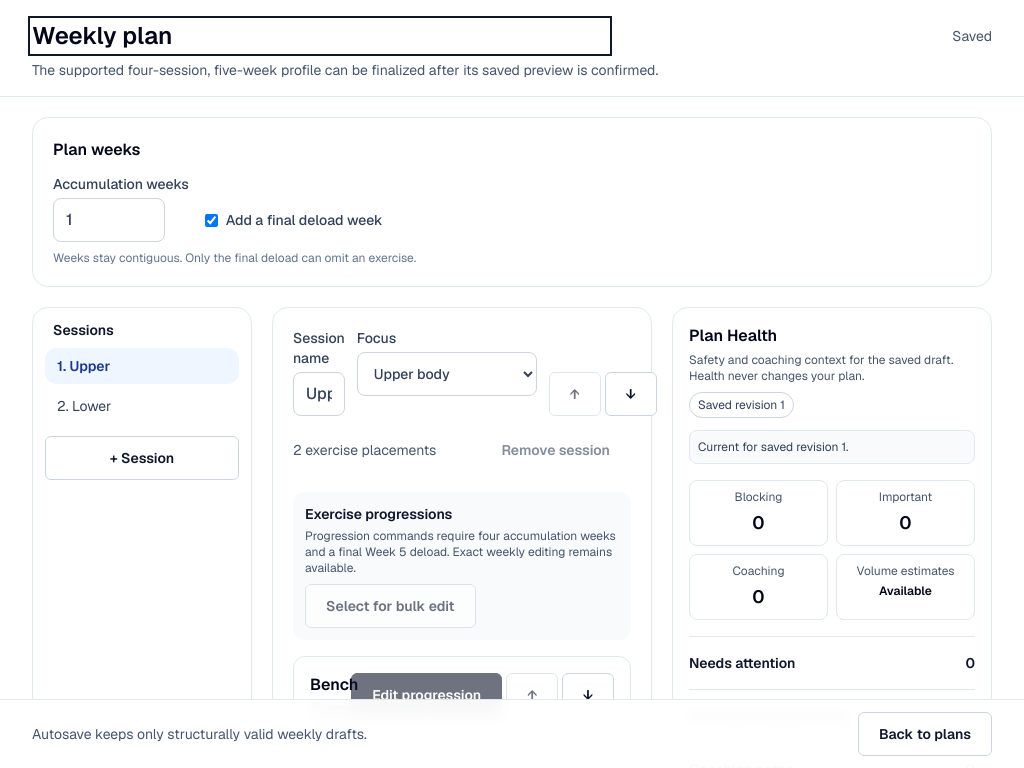
Test: WeeklyHypertrophyPlanEditor › preserves editing focus when Health refreshes
The width and height of the screenshot is (1024, 768).
Replace the text in the field showing "Weekly plan" with "Focused edit" at (320, 36), box 32,20 -> 608,52
Wait 800 ms
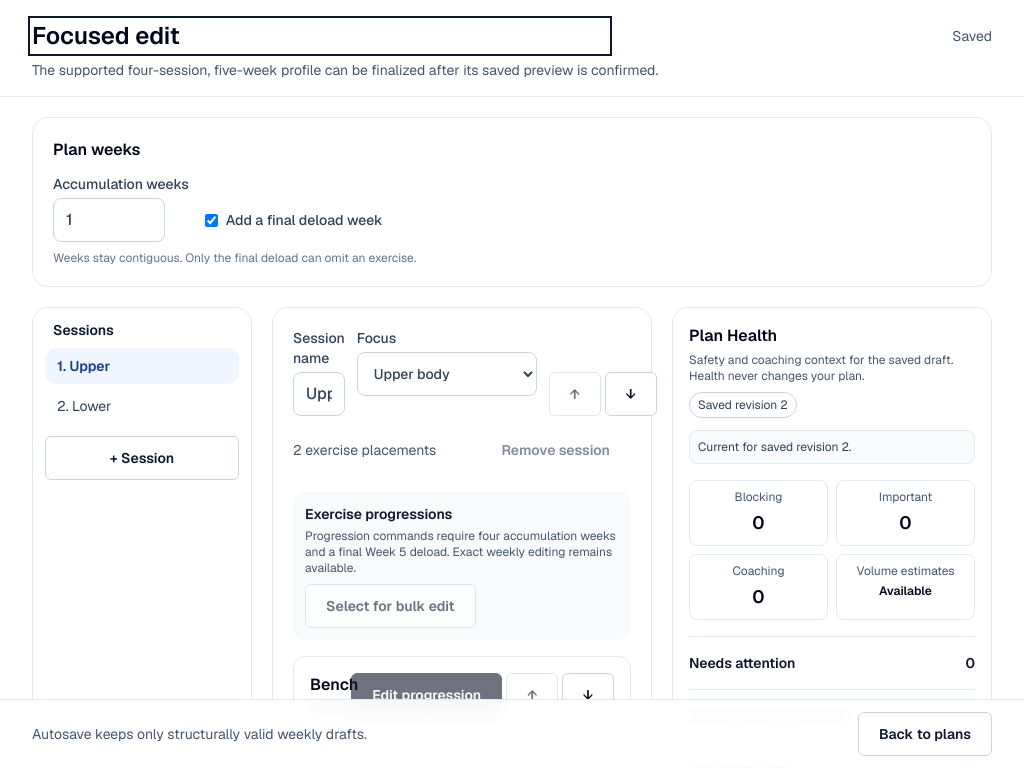
Check: the text "Current for saved revision 2." is shown, box 689,430 -> 975,464
